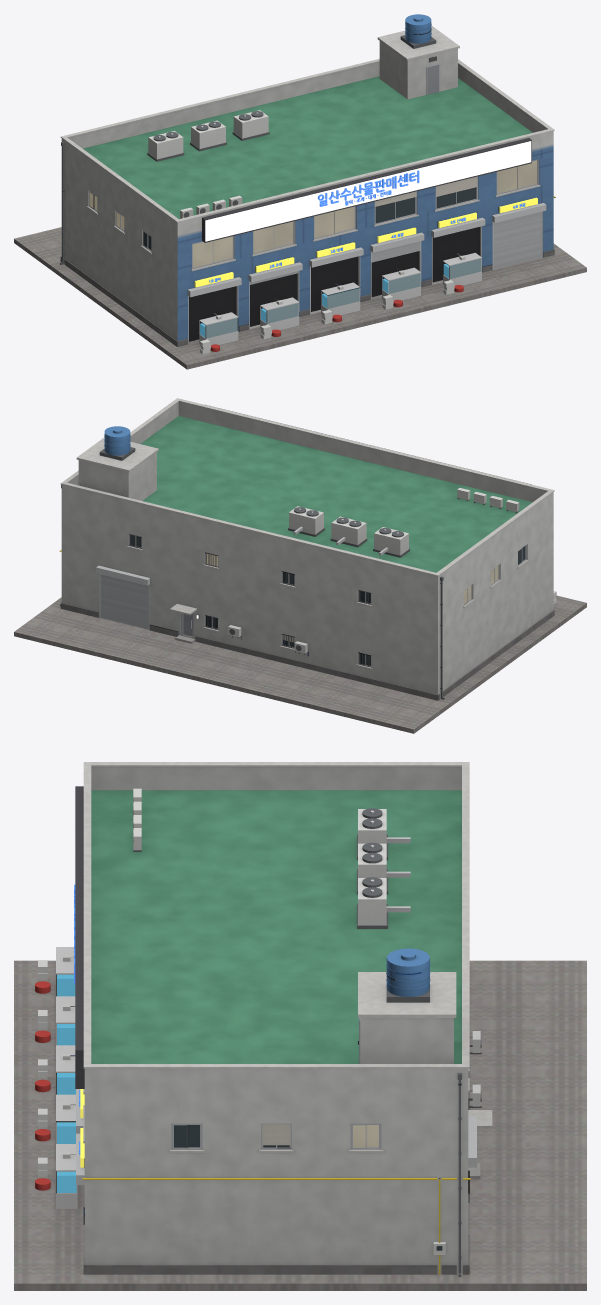
Rendered from IlsanMarket01.fbx.
The picture shows the model from 3 angles, top to bottom: view 1: azimuth 30°, elevation 25°; view 2: azimuth 150°, elevation 25°; view 3: azimuth 270°, elevation 25°; orthographic projection. The views are drawn at different scales.
Parts seen in each view (by area): view 1: IlsanMarket01; view 2: IlsanMarket01; view 3: IlsanMarket01.
Part boxes in pixels (box(x1,y1,x2,y2)): IlsanMarket01: box(14, 14, 586, 369); IlsanMarket01: box(14, 398, 586, 733); IlsanMarket01: box(14, 762, 586, 1290).
Bounding box in the file's own units: 31.9 × 13.65 × 23.9.
Materials: 1 (1 with a texture image).
